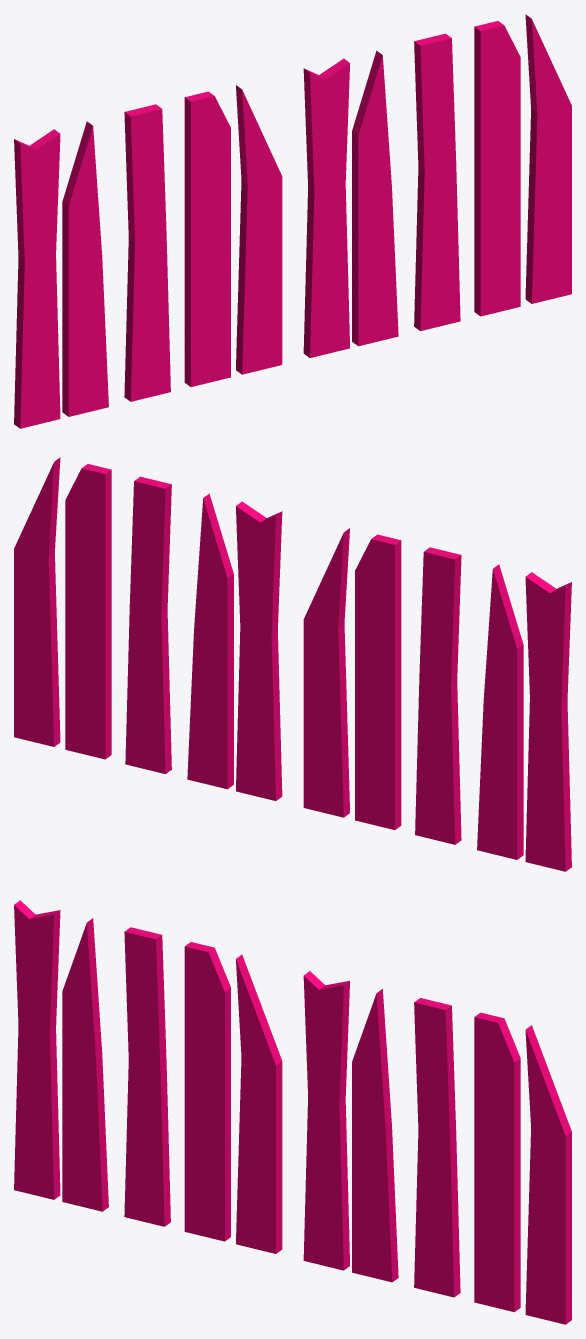
Rendered from SM_SS_Fence_1.fbx.
The picture shows the model from 3 angles, top to bottom: view 1: azimuth 30°, elevation 25°; view 2: azimuth 150°, elevation 25°; view 3: azimuth 330°, elevation 25°; orthographic projection.
Parts seen in each view (by area): view 1: SM_SS_Fence_1; view 2: SM_SS_Fence_1; view 3: SM_SS_Fence_1.
Boxes of the visible parts, <box> form: SM_SS_Fence_1: <box>14,14,571,428</box>; SM_SS_Fence_1: <box>14,457,571,871</box>; SM_SS_Fence_1: <box>14,900,571,1324</box>.
Bounding box in the file's own units: 92.06 × 1.82 × 45.5.
